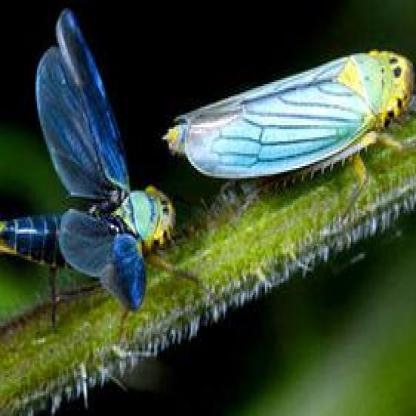Green-Leafhopper: (0, 0, 177, 323), (162, 41, 416, 199)
